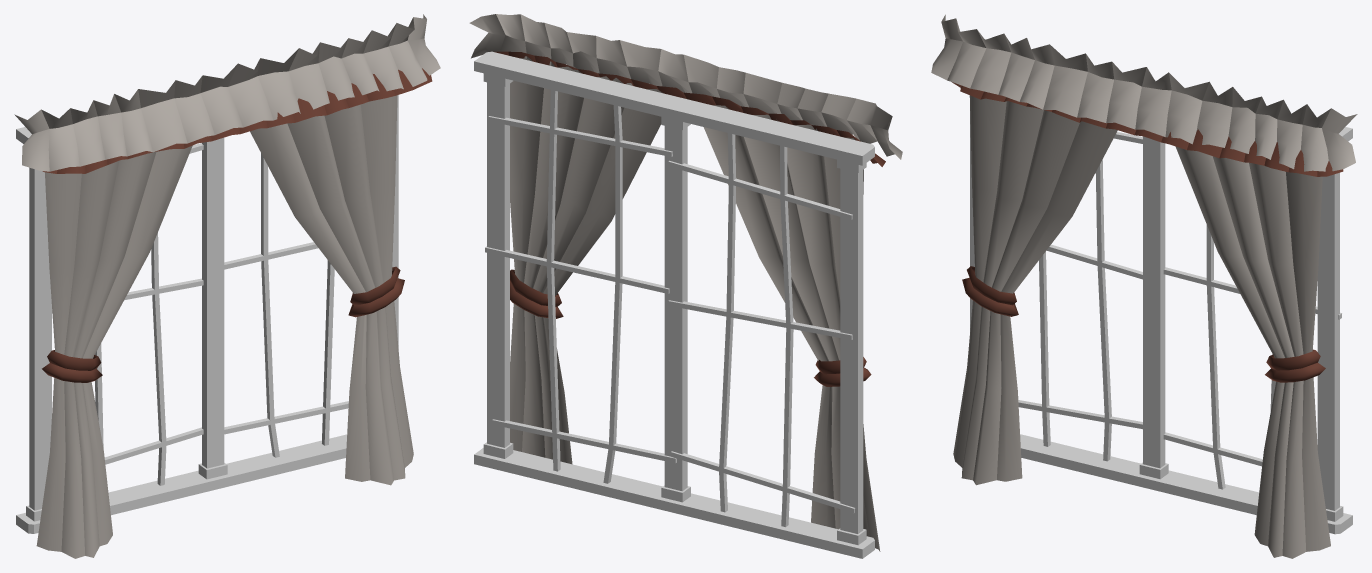
Rendered from window_1_curtain.gltf.
The picture shows the model from 3 angles, left to right: view 1: azimuth 30°, elevation 25°; view 2: azimuth 150°, elevation 25°; view 3: azimuth 330°, elevation 25°; orthographic projection.
Parts seen in each view (by area): view 1: Cube.017, Plane.002, Cube.001, Cube.003, Cube, Cube.012, Cube.014, Cube.013, Cube.008, Cube.004, Cube.007, Cube.009 (+1 smaller); view 2: Cube.017, Plane.002, Cube.011, Cube.003, Cube.001, Cube.004, Cube, Cube.013, Cube.015, Cube.014, Cube.012, Cube.007 (+5 smaller); view 3: Cube.017, Plane.002, Cube.001, Cube.004, Cube, Cube.014, Cube.012, Cube.015, Cube.007, Cube.008, Cube.006, Cube.009.
Boxes of the visible parts, <box> form: Cube.017: <box>36,95,413,558</box>; Plane.002: <box>14,14,440,173</box>; Cube.001: <box>198,137,227,479</box>; Cube.003: <box>26,167,51,521</box>; Cube: <box>16,434,347,533</box>; Cube.012: <box>261,153,279,457</box>; Cube.014: <box>151,233,166,485</box>; Cube.013: <box>322,260,334,445</box>; Cube.008: <box>224,401,348,434</box>; Cube.004: <box>392,95,398,348</box>; Cube.007: <box>104,427,203,464</box>; Cube.009: <box>224,242,318,269</box>; Cube.017: <box>510,58,880,551</box>; Plane.002: <box>469,14,902,166</box>; Cube.011: <box>474,51,874,165</box>; Cube.003: <box>837,159,866,545</box>; Cube.001: <box>661,116,690,502</box>; Cube.004: <box>483,73,513,458</box>; Cube: <box>474,448,874,558</box>; Cube.013: <box>546,90,560,471</box>; Cube.015: <box>780,145,793,527</box>; Cube.014: <box>719,133,736,512</box>; Cube.012: <box>603,105,622,483</box>; Cube.007: <box>670,451,855,513</box>; Cube.017: <box>953,95,1330,558</box>; Plane.002: <box>931,14,1357,176</box>; Cube.001: <box>1139,136,1168,479</box>; Cube.004: <box>1317,172,1343,521</box>; Cube: <box>1020,434,1352,534</box>; Cube.014: <box>1095,160,1111,461</box>; Cube.012: <box>1206,225,1225,489</box>; Cube.015: <box>1039,251,1050,446</box>; Cube.007: <box>1018,400,1142,429</box>; Cube.008: <box>1163,432,1262,466</box>; Cube.006: <box>1046,244,1142,279</box>; Cube.009: <box>1163,267,1341,319</box>.
Size of the model in its own units: 1.8 by 1.84 by 0.2827.
